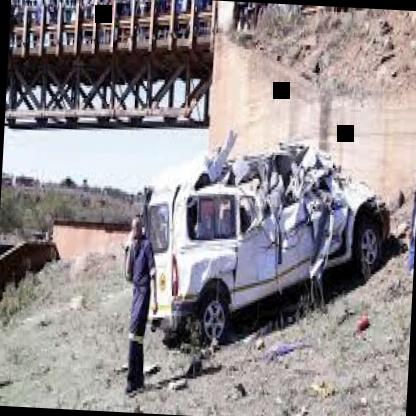accident: (129, 125, 408, 366)
